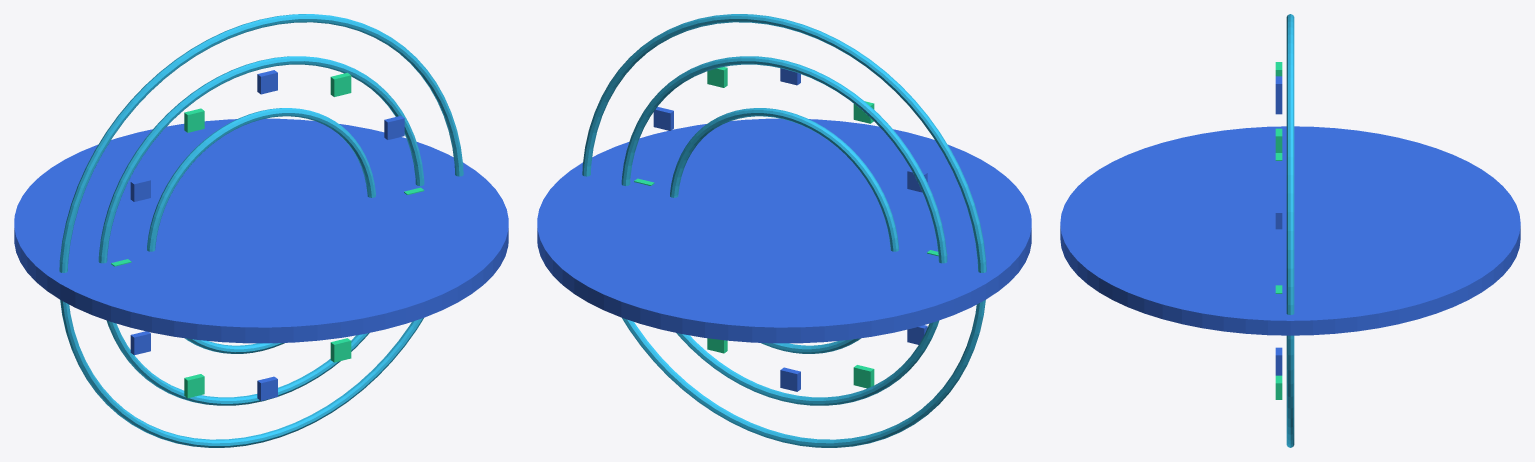
The model's file is 10_L84_HolographicEarthReferenceSphere.fbx.
3 renders of one model, left to right at view 1: azimuth 30°, elevation 25°; view 2: azimuth 150°, elevation 25°; view 3: azimuth 270°, elevation 25°, orthographic. The views are drawn at different scales.
Visible parts, largest first — view 1: L84_HolographicEarthReferenceSphere_Part_0000, L84_HolographicEarthReferenceSphere_Part_0001, L84_HolographicEarthReferenceSphere_Part_0002; view 2: L84_HolographicEarthReferenceSphere_Part_0000, L84_HolographicEarthReferenceSphere_Part_0001, L84_HolographicEarthReferenceSphere_Part_0002; view 3: L84_HolographicEarthReferenceSphere_Part_0000, L84_HolographicEarthReferenceSphere_Part_0001, L84_HolographicEarthReferenceSphere_Part_0002.
Part boxes in pixels (box(x1,y1,x2,y2)): L84_HolographicEarthReferenceSphere_Part_0000: box(14, 70, 508, 400); L84_HolographicEarthReferenceSphere_Part_0001: box(59, 14, 463, 447); L84_HolographicEarthReferenceSphere_Part_0002: box(111, 72, 424, 398); L84_HolographicEarthReferenceSphere_Part_0000: box(537, 68, 1031, 391); L84_HolographicEarthReferenceSphere_Part_0001: box(582, 14, 986, 447); L84_HolographicEarthReferenceSphere_Part_0002: box(634, 67, 947, 388); L84_HolographicEarthReferenceSphere_Part_0000: box(1060, 76, 1520, 375); L84_HolographicEarthReferenceSphere_Part_0001: box(1286, 14, 1294, 447); L84_HolographicEarthReferenceSphere_Part_0002: box(1275, 62, 1282, 399).
Size of the model in its own units: 240 by 226 by 240.
